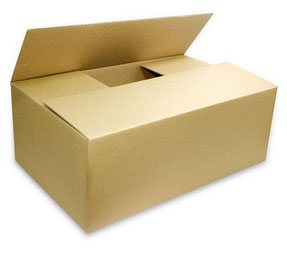box: (5, 9, 282, 235)
